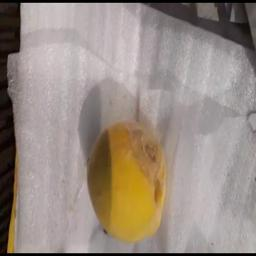Peach Rotten: (67, 110, 181, 245)
